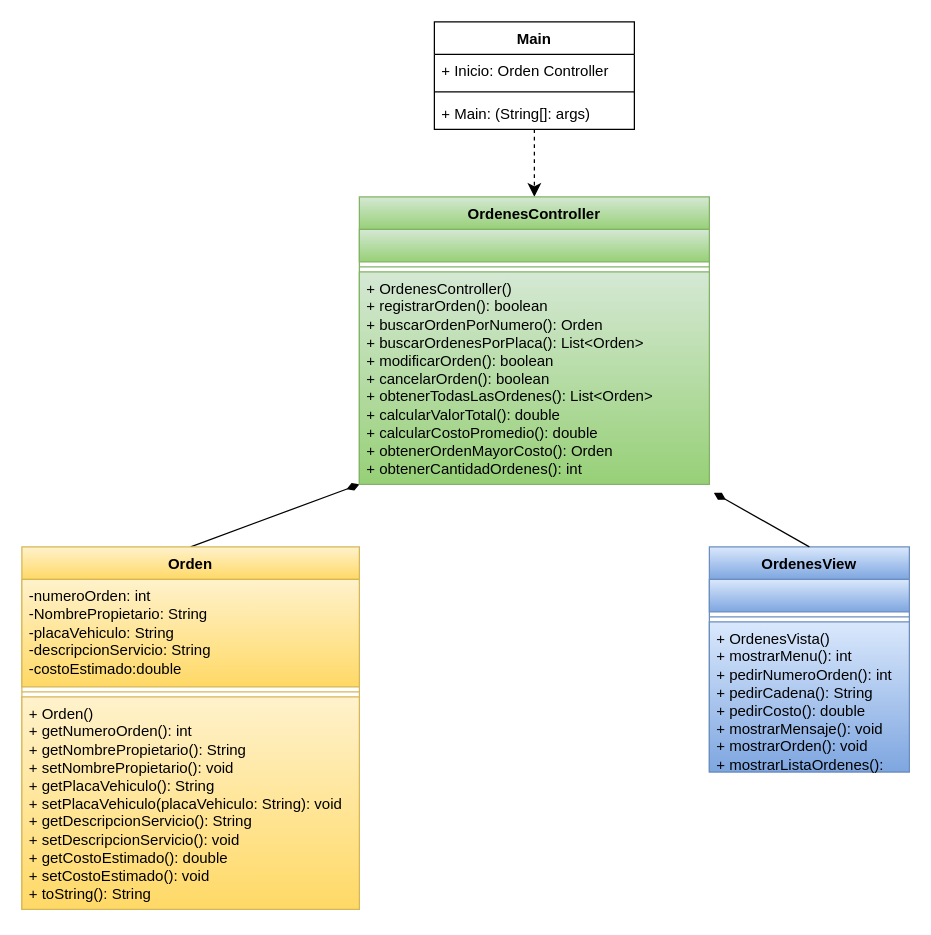
This 931x935 diagram has some shape labels left out. Each missing label, with the centre of its shape:
- ordenes: List<Orden>: [533,245]
- scannerLoco: Scanner: [808,595]
